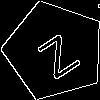Z: (29, 25, 82, 81)
